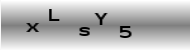5: (118, 25, 132, 39)
L: (47, 8, 61, 22)
Y: (93, 11, 109, 26)
s: (78, 26, 91, 37)
x: (24, 22, 40, 33)
